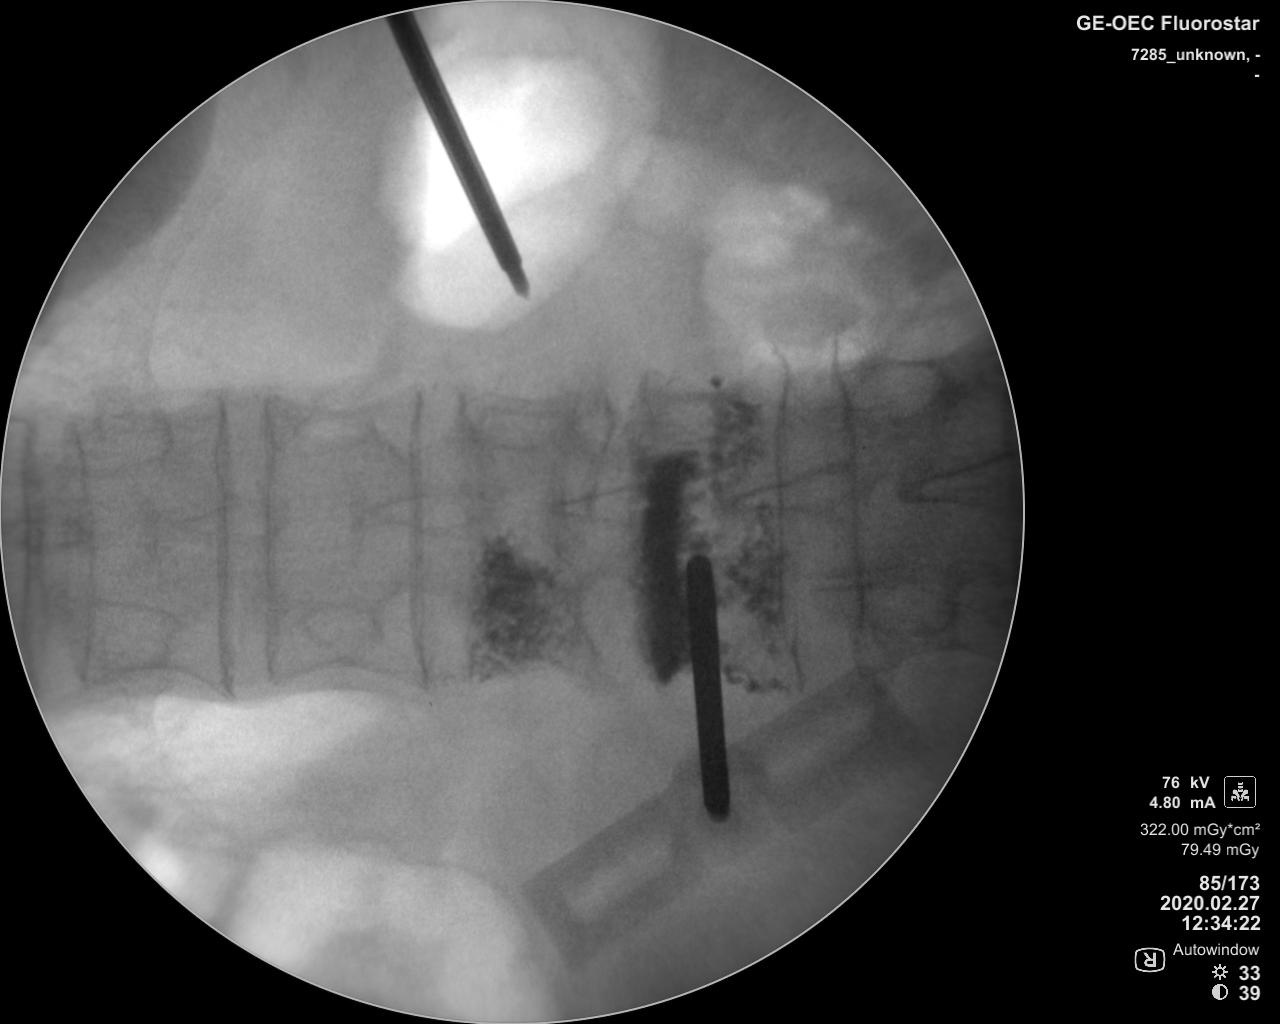eyes: (75, 411, 177, 481), (79, 594, 178, 666), (460, 388, 564, 451), (846, 358, 951, 418), (859, 578, 959, 639), (299, 598, 382, 662), (296, 405, 386, 455)
line: (827, 338, 872, 647), (767, 347, 804, 683), (402, 381, 436, 695), (209, 388, 241, 704), (254, 390, 285, 691), (64, 411, 97, 686), (17, 417, 44, 670)
nose: (894, 451, 1023, 521), (724, 466, 864, 517), (353, 488, 473, 535), (167, 498, 294, 542), (536, 483, 649, 526), (6, 512, 90, 556)
